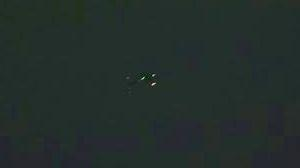Plane: (132, 69, 168, 90)
